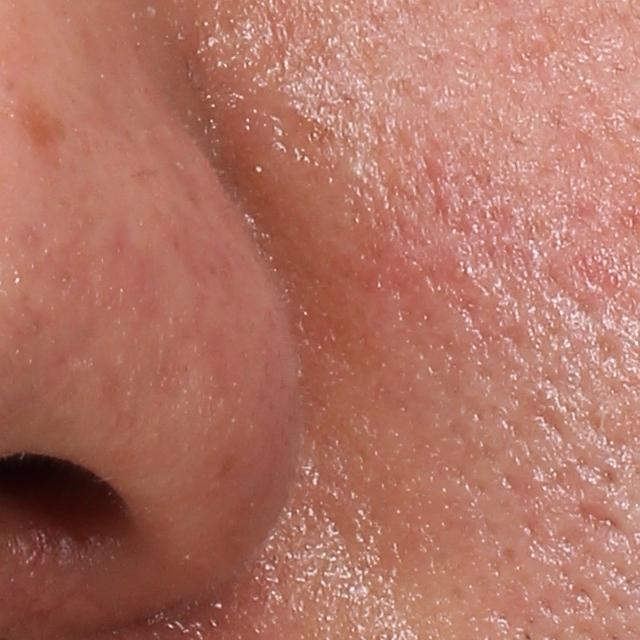atrophic_scar: (580, 501, 623, 534)
melasma: (3, 81, 77, 162)
